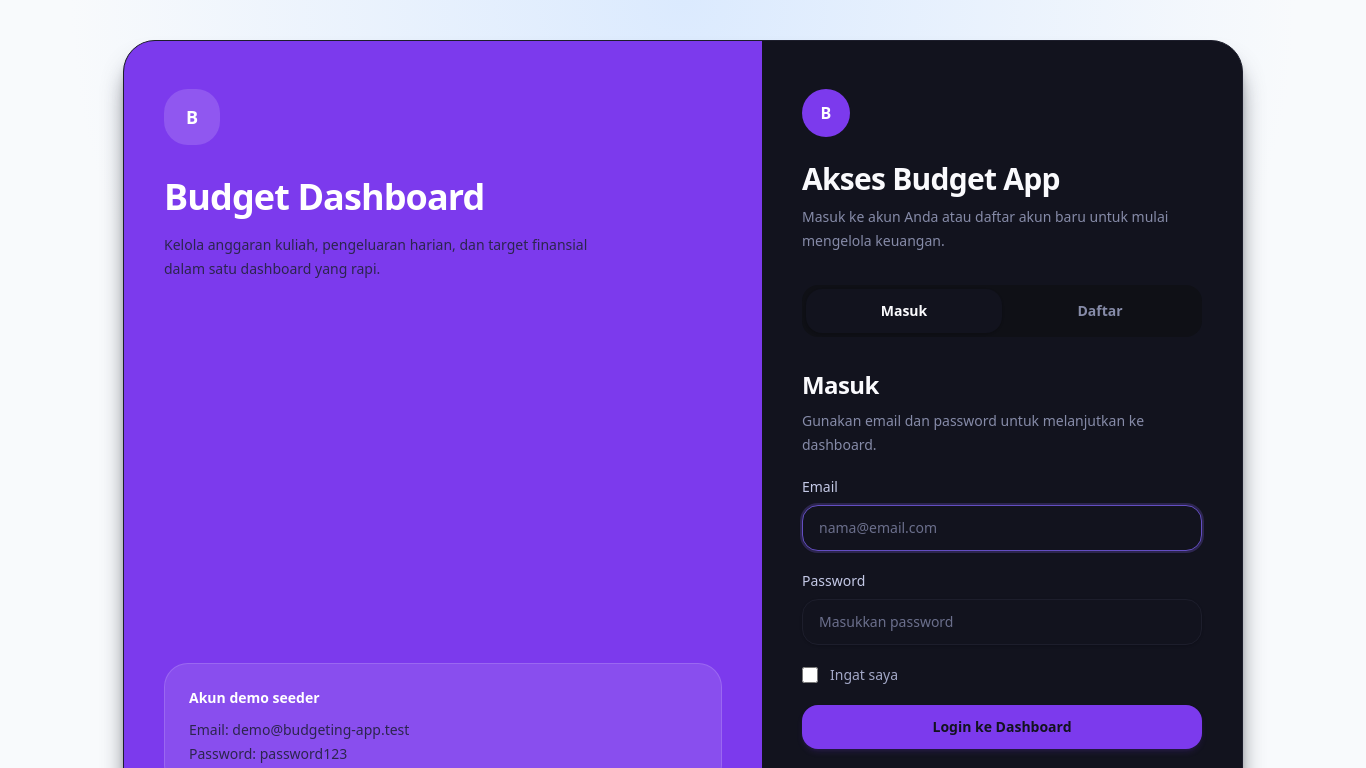
Scenario: AuthPage › switches between the Blade login and registration forms
Expected: the button "Login ke Dashboard" is shown, [802,705,1202,749]
Click the button "Daftar" at point(1100, 311), box [1002,289,1198,333]
(page scrolled)
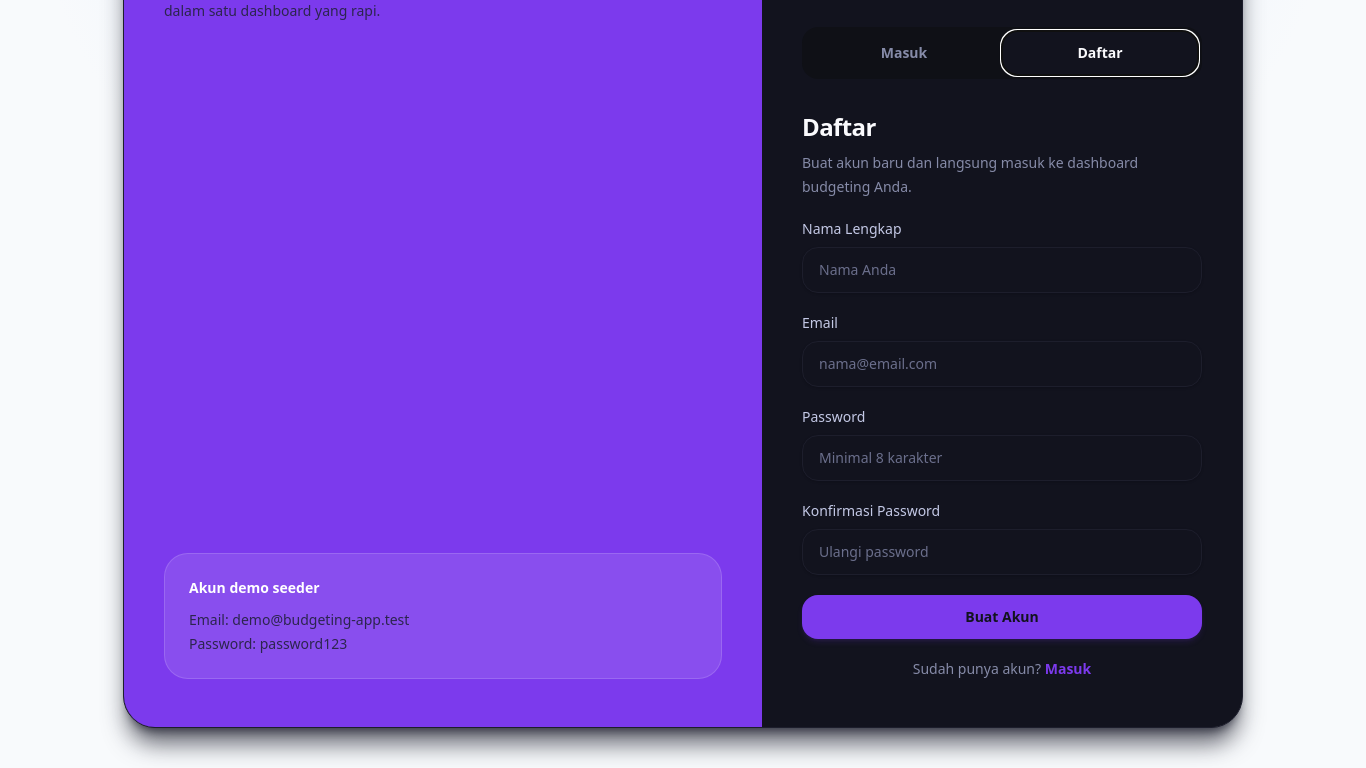
Expected: the field labelled "Nama Lengkap" is shown, [802,247,1202,293]
Expected: the password field labelled "Konfirmasi Password" is shown, [802,529,1202,575]
